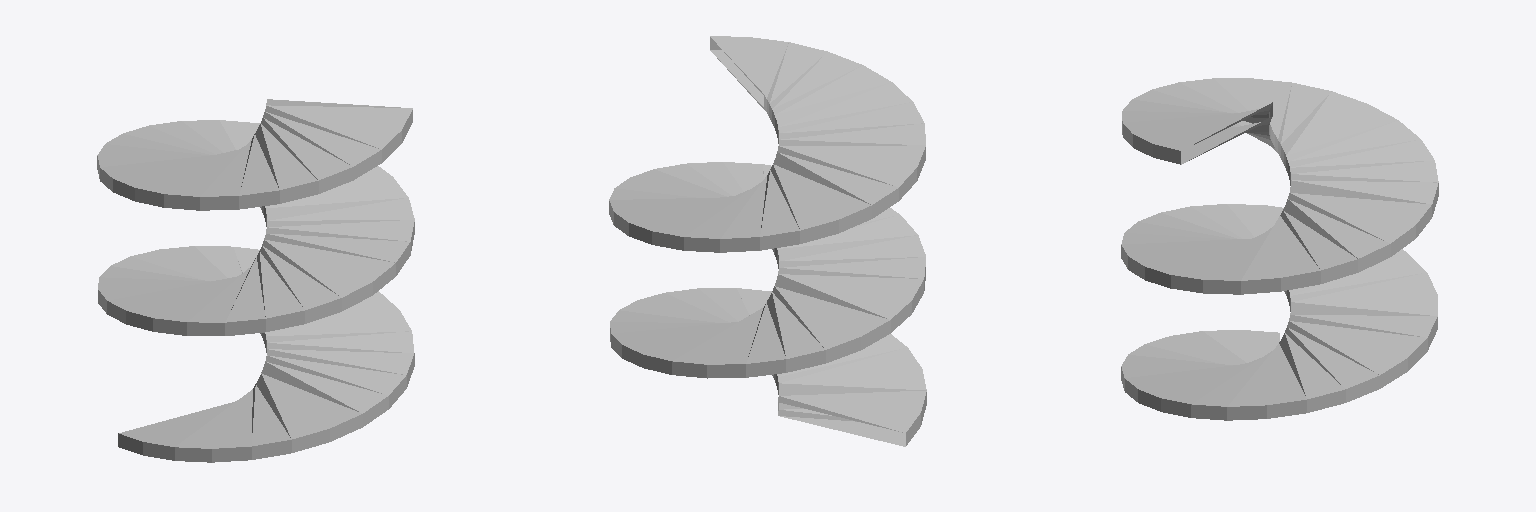
The model's file is pump_screw.obj.
3 views of the same model, side by side, from view 1: azimuth 30°, elevation 25°; view 2: azimuth 150°, elevation 25°; view 3: azimuth 270°, elevation 25° (orthographic).
Parts seen in each view (by area): view 1: Drill_Plane.001; view 2: Drill_Plane.001; view 3: Drill_Plane.001.
Boxes of the visible parts, x1=… form: Drill_Plane.001: x1=97, y1=99, x2=414, y2=462; Drill_Plane.001: x1=609, y1=36, x2=926, y2=446; Drill_Plane.001: x1=1121, y1=78, x2=1438, y2=420.
Bounding box in the file's own units: 0.821 × 0.8982 × 0.8204.